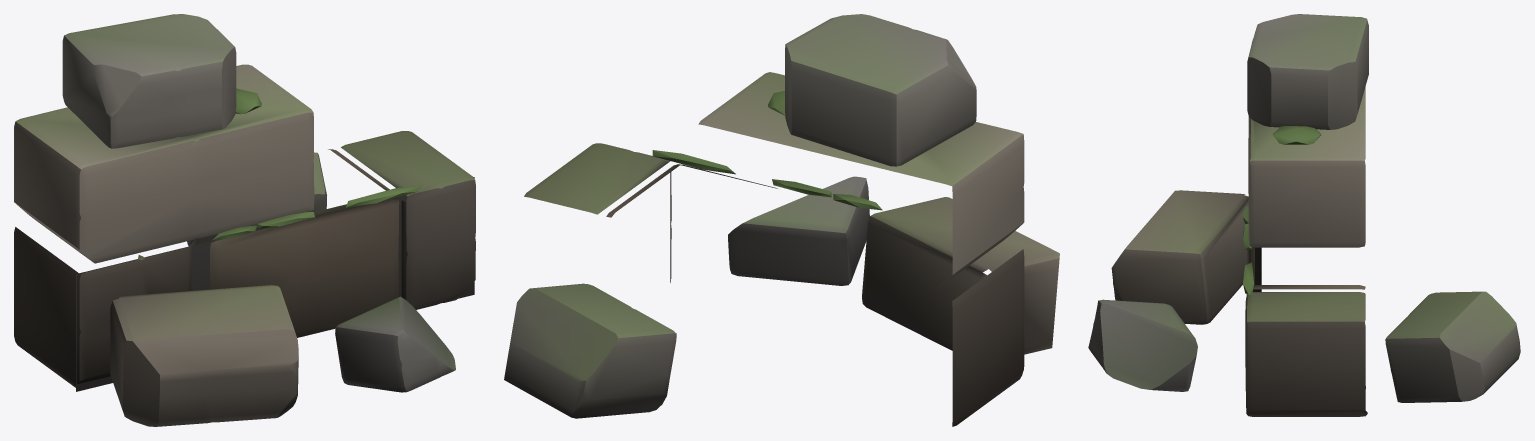
The model's file is ruins-wall-c-v2.glb.
3 renders of one model, left to right at view 1: azimuth 30°, elevation 25°; view 2: azimuth 150°, elevation 25°; view 3: azimuth 270°, elevation 25°, orthographic. The views are drawn at different scales.
Parts seen in each view (by area): view 1: 0_ruins_wall_c; view 2: 0_ruins_wall_c; view 3: 0_ruins_wall_c.
Boxes of the visible parts, bbox=[...] form: 0_ruins_wall_c: bbox=[14, 14, 475, 426]; 0_ruins_wall_c: bbox=[504, 14, 1059, 426]; 0_ruins_wall_c: bbox=[1088, 14, 1520, 416].
Size of the model in its own units: 1.98 by 1.45 by 2.12.
